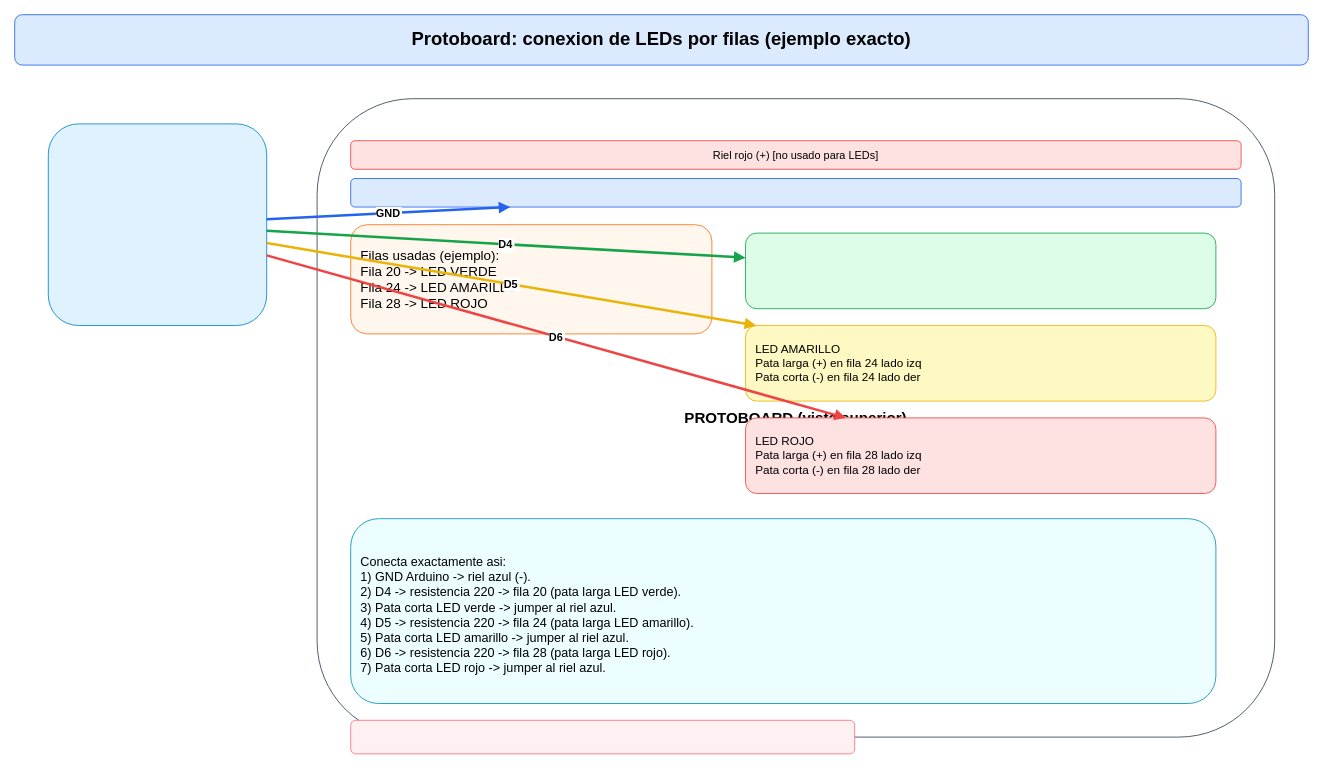
This 1323x769 diagram has some shape labels left out. The centre of each missing label's shape, as x and y in pixels:
Arduino UNO D4 (verde) D5 (amarillo) D6 (rojo) GND: (157,224)
LED VERDE Pata larga (+) en fila 20 lado izq Pata corta (-) en fila 20 lado der: (980,270)
Riel azul (-) = GND: (795,192)
Tip: si no enciende, gira el LED (invertiste larga/corta).: (602,736)
